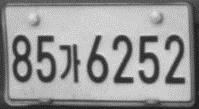2: (163, 33, 186, 84), (111, 34, 134, 84)
5: (137, 34, 160, 83), (35, 34, 56, 82)
6: (85, 34, 109, 83)
8: (11, 34, 32, 82)
가: (58, 43, 81, 83)
